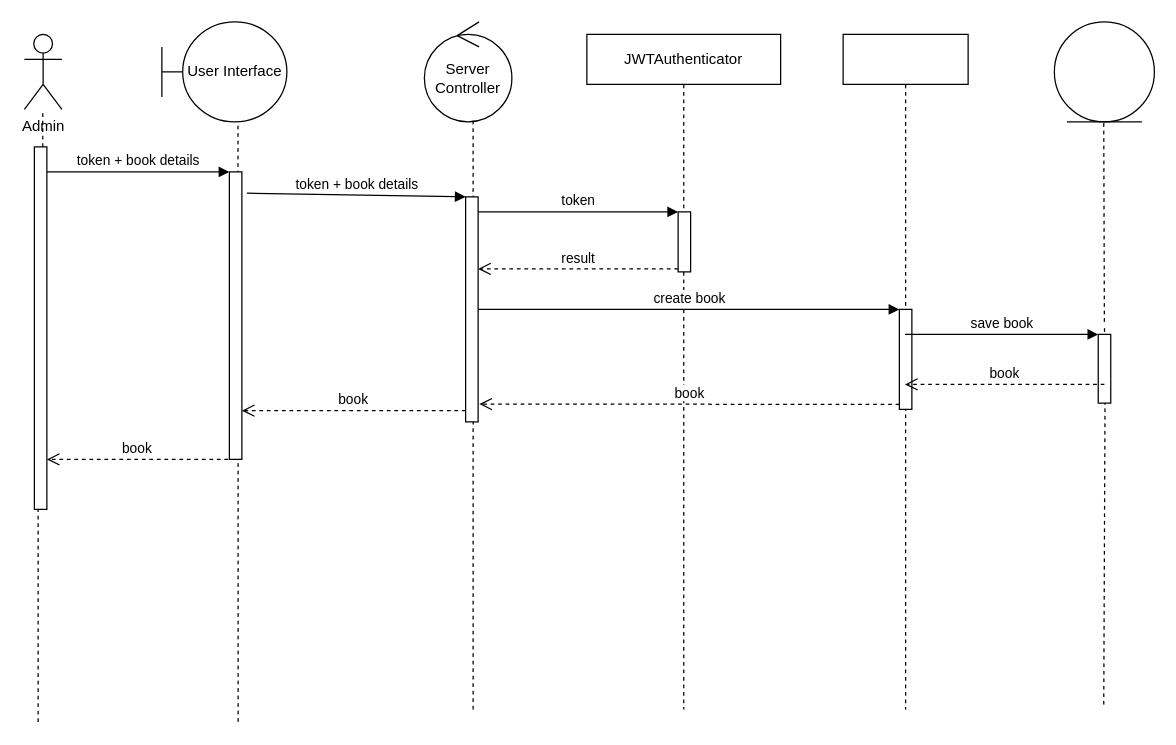
Image size: 1176x745. Some labels were removed from this diagram. The box of each missing label's shape, as (x1, y1, x2, y2) in pixels:
Book Management: (842, 33, 968, 709)
MySQL Database: (1053, 21, 1154, 122)
